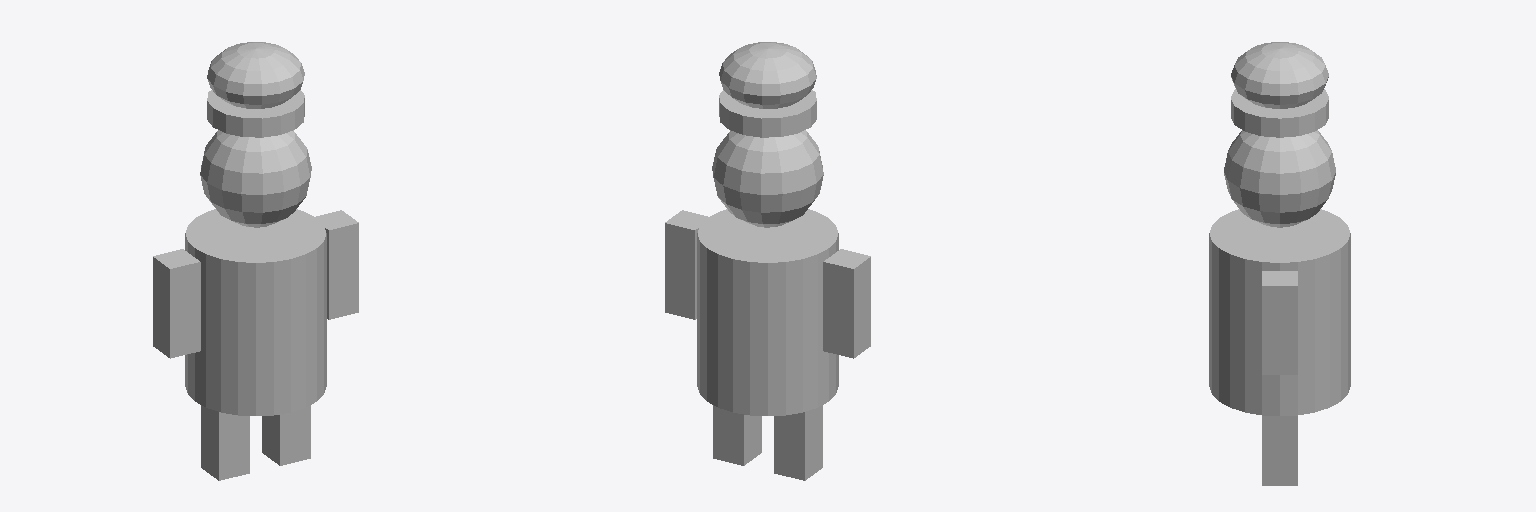
Rendered from player.obj.
3 renders of one model, left to right at view 1: azimuth 30°, elevation 25°; view 2: azimuth 150°, elevation 25°; view 3: azimuth 270°, elevation 25°, orthographic.
Visible parts, largest first — view 1: AI_Customer_Player; view 2: AI_Customer_Player; view 3: AI_Customer_Player.
Part boxes in pixels (x1,y1,x2,y2): AI_Customer_Player: (153, 42, 358, 480); AI_Customer_Player: (665, 42, 870, 480); AI_Customer_Player: (1209, 42, 1350, 485).
Bounding box in the file's own units: 1.55 × 3.24 × 1.